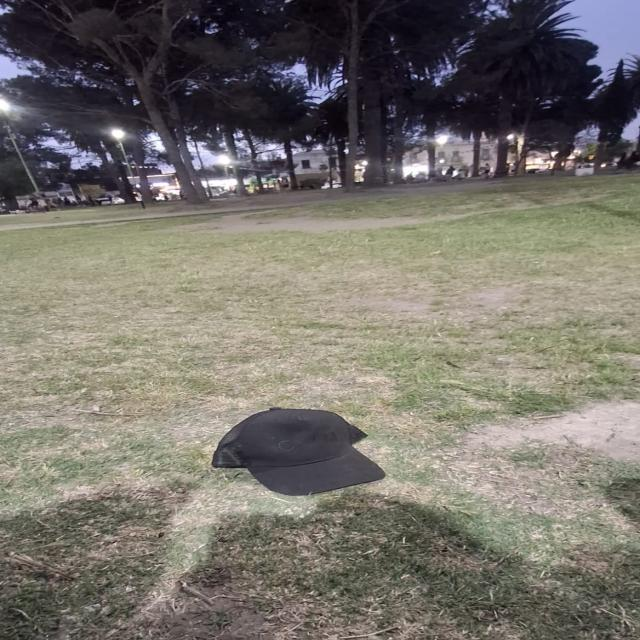Gorra: (213, 405, 393, 500)
